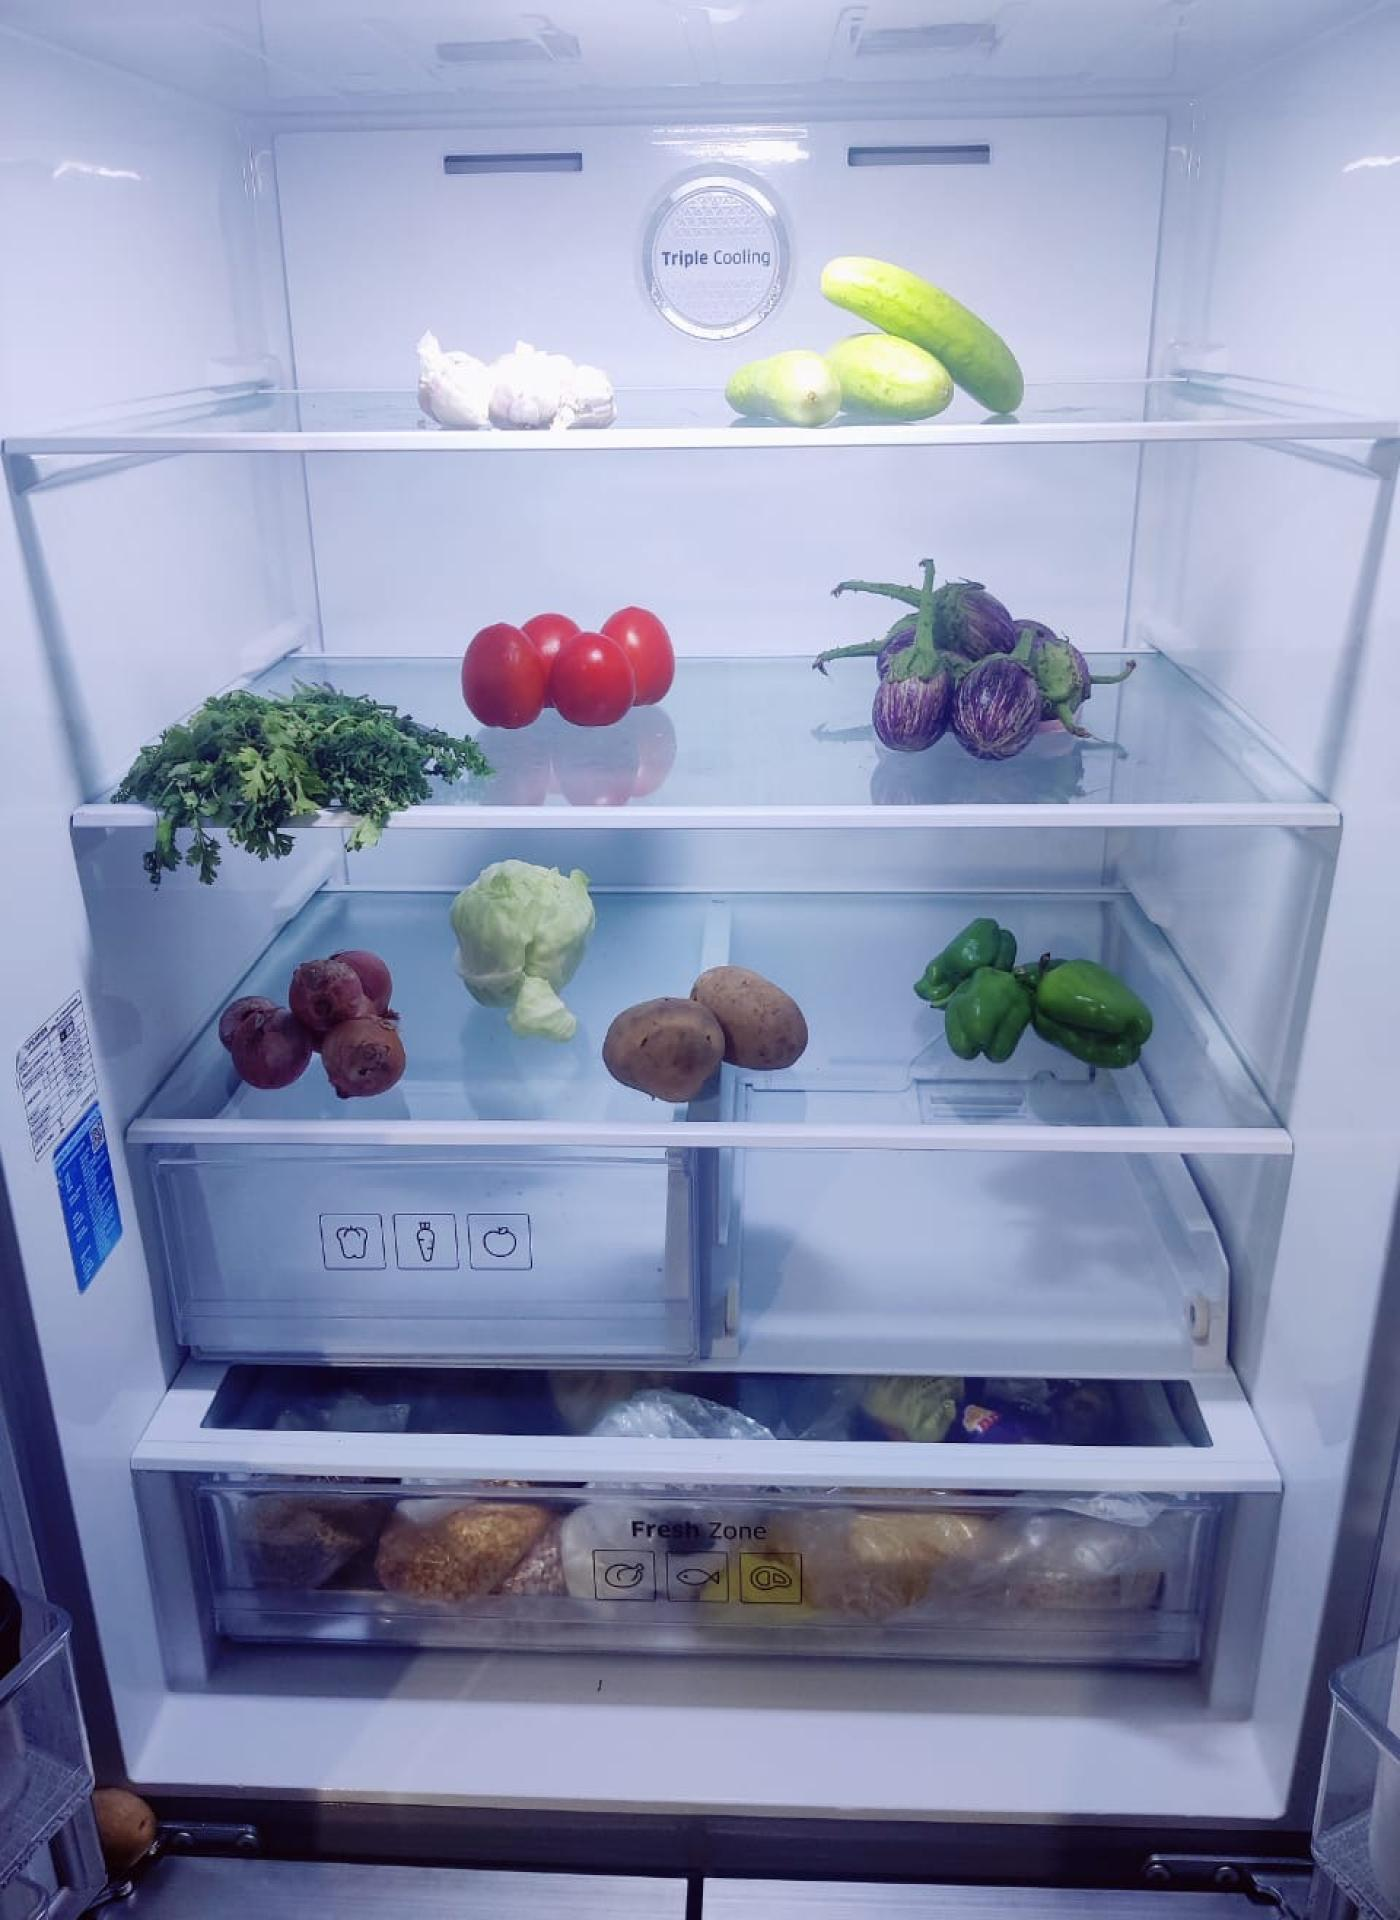brinjal: (842, 556, 1099, 751)
cabbage: (449, 854, 592, 1024)
capsicum: (923, 918, 1163, 1072), (915, 914, 1032, 1060)
coriander: (127, 696, 480, 862)
cucumber: (811, 253, 1030, 417)
garlic: (410, 326, 632, 438)
onion: (224, 948, 409, 1094)
potato: (608, 963, 816, 1100)
tomato: (461, 607, 677, 727)
